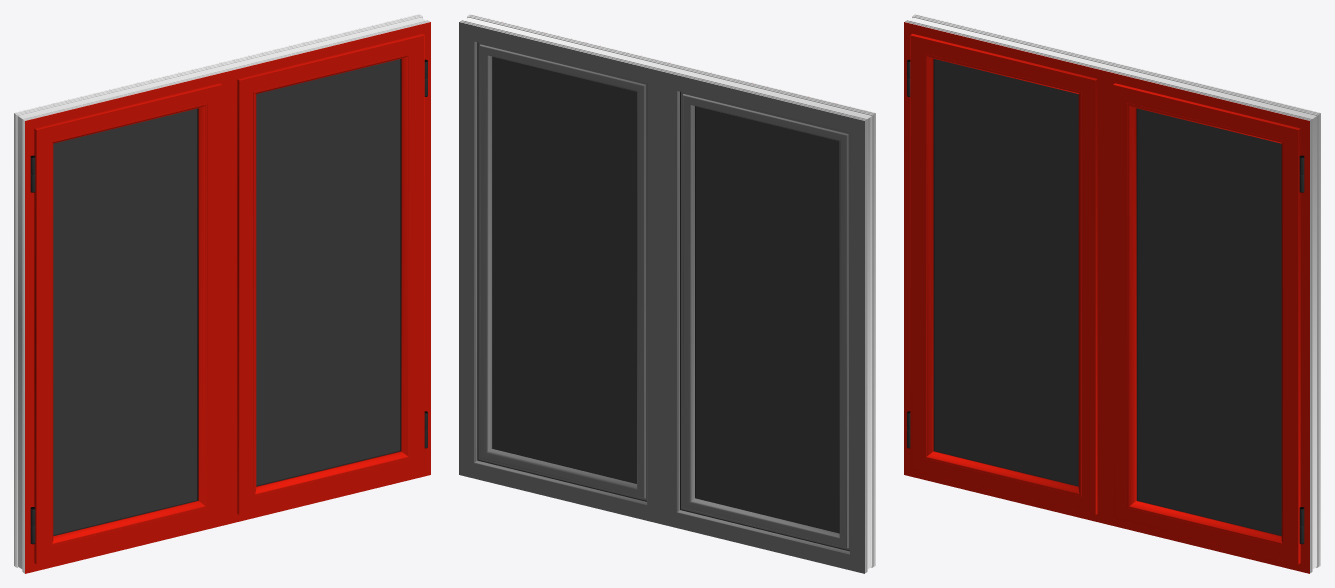
The model's file is 8000_2_doors.fbx.
3 views of the same model, side by side, from view 1: azimuth 30°, elevation 25°; view 2: azimuth 150°, elevation 25°; view 3: azimuth 330°, elevation 25° (orthographic).
Parts seen in each view (by area): view 1: SM_Glass_L_002, SM_Glass_R_002, SM_Window_Frame_8000_001, SM_Door_Frame_8000_R_001, SM_Door_Frame_8000_L_001, SM_Door_Frame_8000_L_002, SM_Door_Frame_8000_R_004; view 2: SM_Glass_R_001, SM_Glass_L_001, SM_Window_Frame_8000_001, SM_Door_Frame_8000_R_001, SM_Door_Frame_8000_L_001, SM_Window_Frame_8000_002, SM_Door_Frame_8000_L_002, SM_Door_Frame_8000_R_004; view 3: SM_Glass_L_002, SM_Glass_R_002, SM_Window_Frame_8000_001, SM_Door_Frame_8000_L_001, SM_Door_Frame_8000_R_001, SM_Door_Frame_8000_R_004, SM_Door_Frame_8000_L_002.
Boxes of the visible parts, x1=… form: SM_Glass_L_002: x1=53, y1=108, x2=197, y2=534; SM_Glass_R_002: x1=256, y1=59, x2=400, y2=485; SM_Window_Frame_8000_001: x1=14, y1=14, x2=430, y2=573; SM_Door_Frame_8000_R_001: x1=237, y1=33, x2=424, y2=514; SM_Door_Frame_8000_L_001: x1=34, y1=83, x2=221, y2=564; SM_Door_Frame_8000_L_002: x1=53, y1=108, x2=198, y2=535; SM_Door_Frame_8000_R_004: x1=256, y1=59, x2=401, y2=486; SM_Glass_R_001: x1=493, y1=57, x2=636, y2=482; SM_Glass_L_001: x1=696, y1=106, x2=839, y2=532; SM_Window_Frame_8000_001: x1=459, y1=14, x2=875, y2=573; SM_Door_Frame_8000_R_001: x1=478, y1=42, x2=646, y2=500; SM_Door_Frame_8000_L_001: x1=681, y1=92, x2=849, y2=550; SM_Window_Frame_8000_002: x1=477, y1=42, x2=849, y2=551; SM_Door_Frame_8000_L_002: x1=695, y1=106, x2=839, y2=533; SM_Door_Frame_8000_R_004: x1=492, y1=56, x2=636, y2=483; SM_Glass_L_002: x1=934, y1=59, x2=1078, y2=485; SM_Glass_R_002: x1=1137, y1=108, x2=1281, y2=534; SM_Window_Frame_8000_001: x1=904, y1=14, x2=1320, y2=573; SM_Door_Frame_8000_L_001: x1=910, y1=33, x2=1097, y2=514; SM_Door_Frame_8000_R_001: x1=1113, y1=83, x2=1300, y2=564; SM_Door_Frame_8000_R_004: x1=1136, y1=108, x2=1281, y2=535; SM_Door_Frame_8000_L_002: x1=933, y1=59, x2=1078, y2=486.
Bounding box in the file's own units: 150 × 160 × 8.65.
